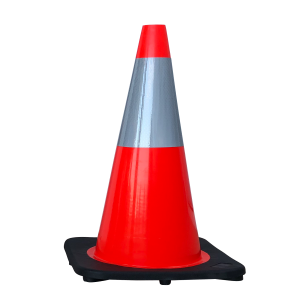traffic cone: (63, 25, 246, 278)
